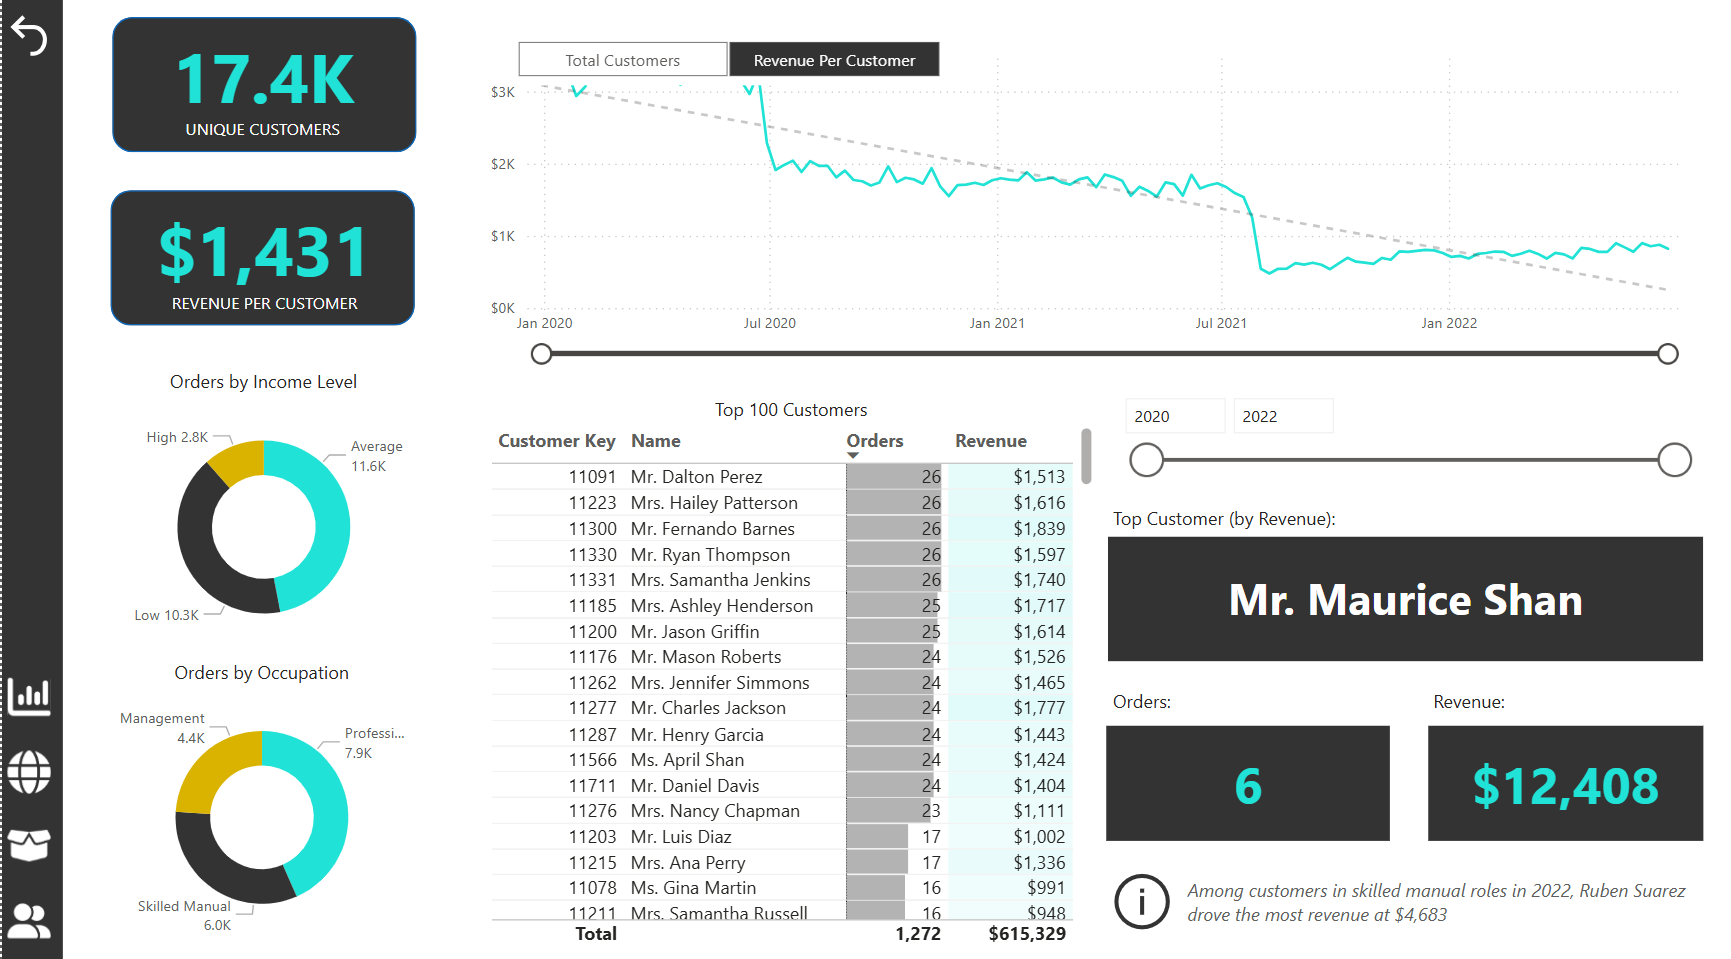

This screenshot's page, from the dashboard's own definition file:
{"tool":"powerbi","page":{"name":"Customer Details","canvas":[1280,720],"ordinal":3},"visuals":[{"type":"shape","box":[0,1,45,719],"z":0},{"type":"shape","box":[81,21.2,225,100],"z":1000},{"type":"actionButton","box":[0,503.4,45.3,40.1],"z":2000},{"type":"shape","box":[80.3,148.5,225,100],"z":3000},{"type":"actionButton","box":[0,558.6,45.3,40.1],"z":4000},{"type":"card","title":"Revenue","fields":{"Values":["Measure Table.Total Customers"]},"box":[79.7,21.2,225,100],"z":5000},{"type":"actionButton","box":[0,613.8,45.3,40.1],"z":6000},{"type":"card","title":"Revenue","fields":{"Values":["Measure Table.Average Revenue Per Customer"]},"box":[81.6,148.5,225,100],"z":7000},{"type":"actionButton","box":[0,669,45.3,40.1],"z":8000},{"type":"lineChart","fields":{"Y":["Measure Table.Average Revenue Per Customer"],"Category":["Calendar Lookup.Date Hierarchy.Start of Year","Calendar Lookup.Date Hierarchy.Start of Month","Calendar Lookup.Date Hierarchy.Start of Week","Calendar Lookup.Date Hierarchy.Date"]},"box":[355.8,34.9,901.9,245.9],"z":9000},{"type":"donutChart","title":"Orders by Income Level","fields":{"Category":["Customer Lookup.Income Level"],"Y":["Measure Table.Total Orders"]},"box":[81.6,280.3,223.9,216],"z":10000},{"type":"donutChart","title":"Orders by Occupation","fields":{"Y":["Measure Table.Total Orders"],"Category":["Customer Lookup.Occupation"]},"box":[80.3,496.1,223.7,215.8],"z":11000},{"type":"tableEx","title":"Top 100 Customers","fields":{"Values":["Customer Lookup.CustomerKey","Customer Lookup.Customer Full Name (CC)","Measure Table.Total Orders","Measure Table.Total Revenue"]},"box":[355.8,301.5,455.5,410.2],"z":12000},{"type":"card","fields":{"Values":["Measure Table.Full Name (Customer Detail)"]},"box":[818,405.2,440,91.9],"z":13000},{"type":"card","fields":{"Values":["Measure Table.Total Revenue (Customer Details)"]},"box":[1054,545.3,203.2,85.4],"z":14000},{"type":"card","fields":{"Values":["Measure Table.Total Orders (Customer Details)"]},"box":[816.7,545,209.6,85.4],"z":15000},{"type":"textbox","box":[816.7,376.7,261.4,28.5],"z":16000},{"type":"textbox","box":[816.7,512.6,210.9,32.3],"z":17000},{"type":"textbox","box":[1053.5,512.6,203.2,32.3],"z":18000},{"type":"slicer","fields":{"Values":["Calendar Lookup.Year"]},"box":[817.8,292.1,440,84.1],"z":19000},{"type":"actionButton","box":[816.5,648.3,441.2,53.1],"z":20000},{"type":"actionButton","box":[0,14.2,45.3,40.1],"z":21000},{"type":"slicer","fields":{"Values":["Customer Metric Selection.Customer Metric Selection"]},"box":[355.8,32.3,361,38.8],"z":22000}]}

Visuals, with their boxes on the page's 1280x720 design canvas (x1, y1, x2, y2). These are canvas units, not pixel positions in the 1731x959 screenshot, which may show the page scaled, cropped or inside an application window:
shape: [x1=0, y1=1, x2=45, y2=720]
shape: [x1=81, y1=21, x2=306, y2=121]
actionButton: [x1=0, y1=503, x2=45, y2=544]
shape: [x1=80, y1=148, x2=305, y2=248]
actionButton: [x1=0, y1=559, x2=45, y2=599]
"Revenue" card: [x1=80, y1=21, x2=305, y2=121]
actionButton: [x1=0, y1=614, x2=45, y2=654]
"Revenue" card: [x1=82, y1=148, x2=307, y2=248]
actionButton: [x1=0, y1=669, x2=45, y2=709]
lineChart - Measure Table.Average Revenue Per Customer x Calendar Lookup.Date Hierarchy.Start of Year: [x1=356, y1=35, x2=1258, y2=281]
"Orders by Income Level" donutChart: [x1=82, y1=280, x2=306, y2=496]
"Orders by Occupation" donutChart: [x1=80, y1=496, x2=304, y2=712]
"Top 100 Customers" tableEx: [x1=356, y1=302, x2=811, y2=712]
card - Measure Table.Full Name (Customer Detail): [x1=818, y1=405, x2=1258, y2=497]
card - Measure Table.Total Revenue (Customer Details): [x1=1054, y1=545, x2=1257, y2=631]
card - Measure Table.Total Orders (Customer Details): [x1=817, y1=545, x2=1026, y2=630]
textbox: [x1=817, y1=377, x2=1078, y2=405]
textbox: [x1=817, y1=513, x2=1028, y2=545]
textbox: [x1=1054, y1=513, x2=1257, y2=545]
slicer - Calendar Lookup.Year: [x1=818, y1=292, x2=1258, y2=376]
actionButton: [x1=816, y1=648, x2=1258, y2=701]
actionButton: [x1=0, y1=14, x2=45, y2=54]
slicer - Customer Metric Selection.Customer Metric Selection: [x1=356, y1=32, x2=717, y2=71]
